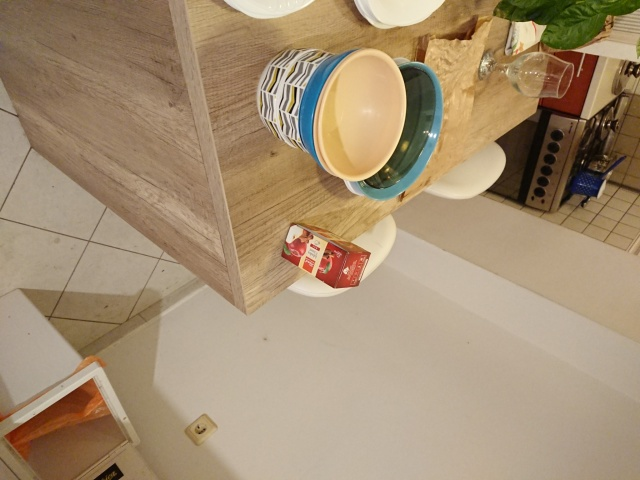Franck Apple Cinnamon Tea 60g: (278, 220, 373, 291)
